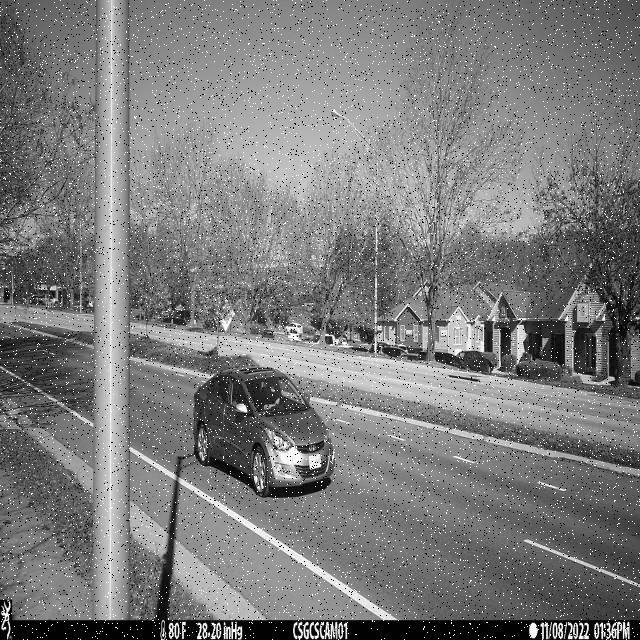Sedan: (193, 365, 337, 498)
